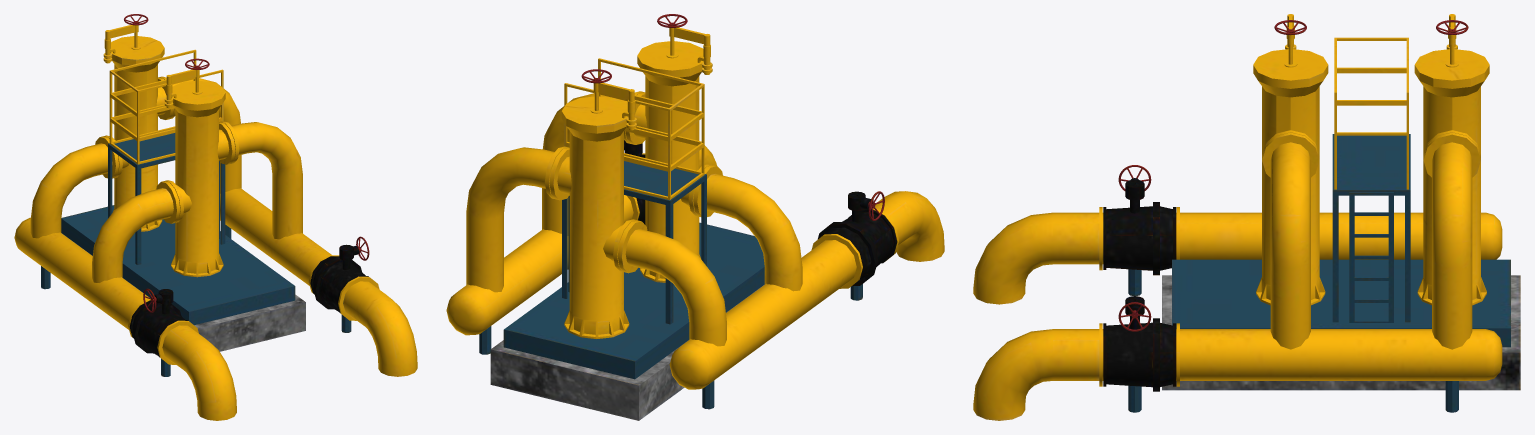
The picture shows the model from 3 angles, left to right: view 1: azimuth 30°, elevation 25°; view 2: azimuth 150°, elevation 25°; view 3: azimuth 270°, elevation 25°; orthographic projection. The views are drawn at different scales.
Parts seen in each view (by area): view 1: 设备7UV.obj.1; view 2: 设备7UV.obj.1; view 3: 设备7UV.obj.1.
Part boxes in pixels (x1=…): 设备7UV.obj.1: x1=14, y1=14, x2=417, y2=420; 设备7UV.obj.1: x1=446, y1=14, x2=944, y2=420; 设备7UV.obj.1: x1=973, y1=14, x2=1520, y2=420.
Size of the model in its own units: 209 by 215 by 328.
1 material, 1 textured.
